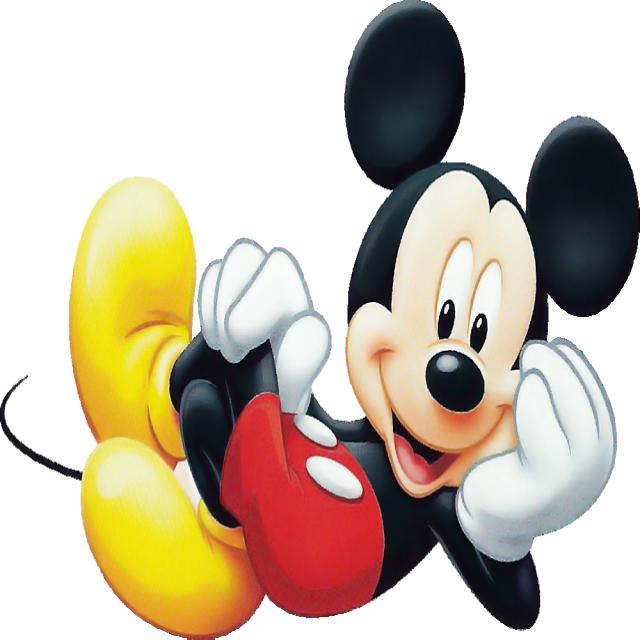mickey: (51, 2, 636, 633)
